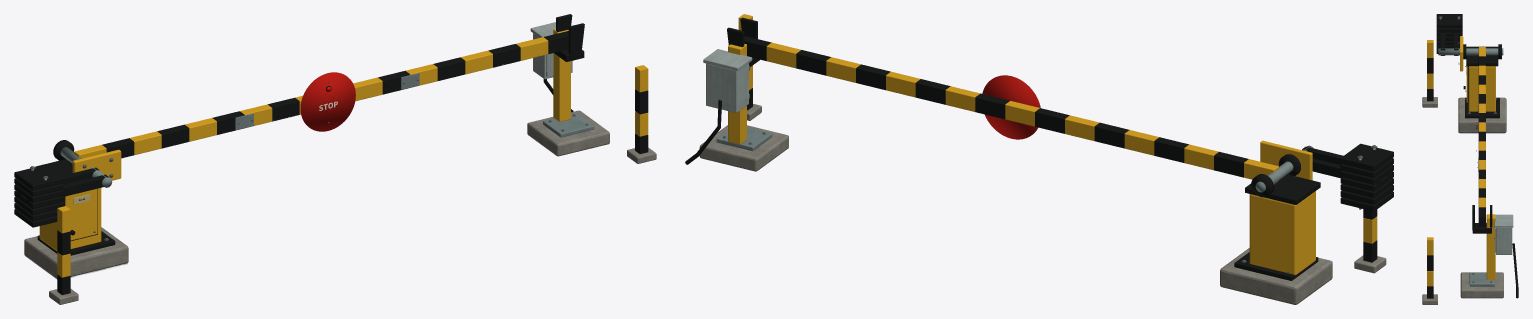
The picture shows the model from 3 angles, left to right: view 1: azimuth 30°, elevation 25°; view 2: azimuth 150°, elevation 25°; view 3: azimuth 270°, elevation 25°; orthographic projection. The views are drawn at different scales.
Parts seen in each view (by area): view 1: TF3_KR_R14; view 2: TF3_KR_R14; view 3: TF3_KR_R14.
Part boxes in pixels (left/top/right/bottom): TF3_KR_R14: left=14, top=14, right=656, bottom=304; TF3_KR_R14: left=685, top=14, right=1393, bottom=304; TF3_KR_R14: left=1422, top=14, right=1518, bottom=304.
Bounding box in the file's own units: 6.67 × 1.33 × 1.29.
Materials: 11 (4 with a texture image).
